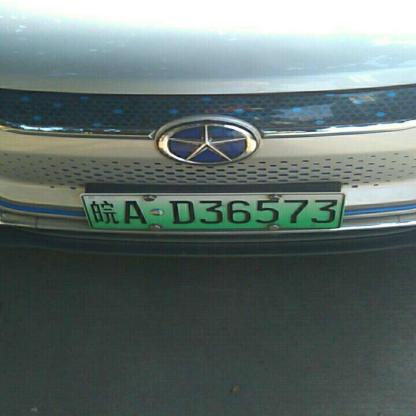lp: (82, 194, 344, 228)
